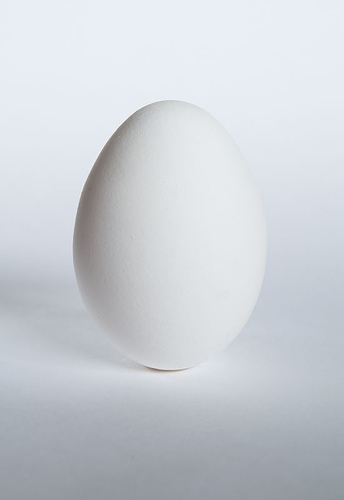egg: (72, 100, 270, 371)
